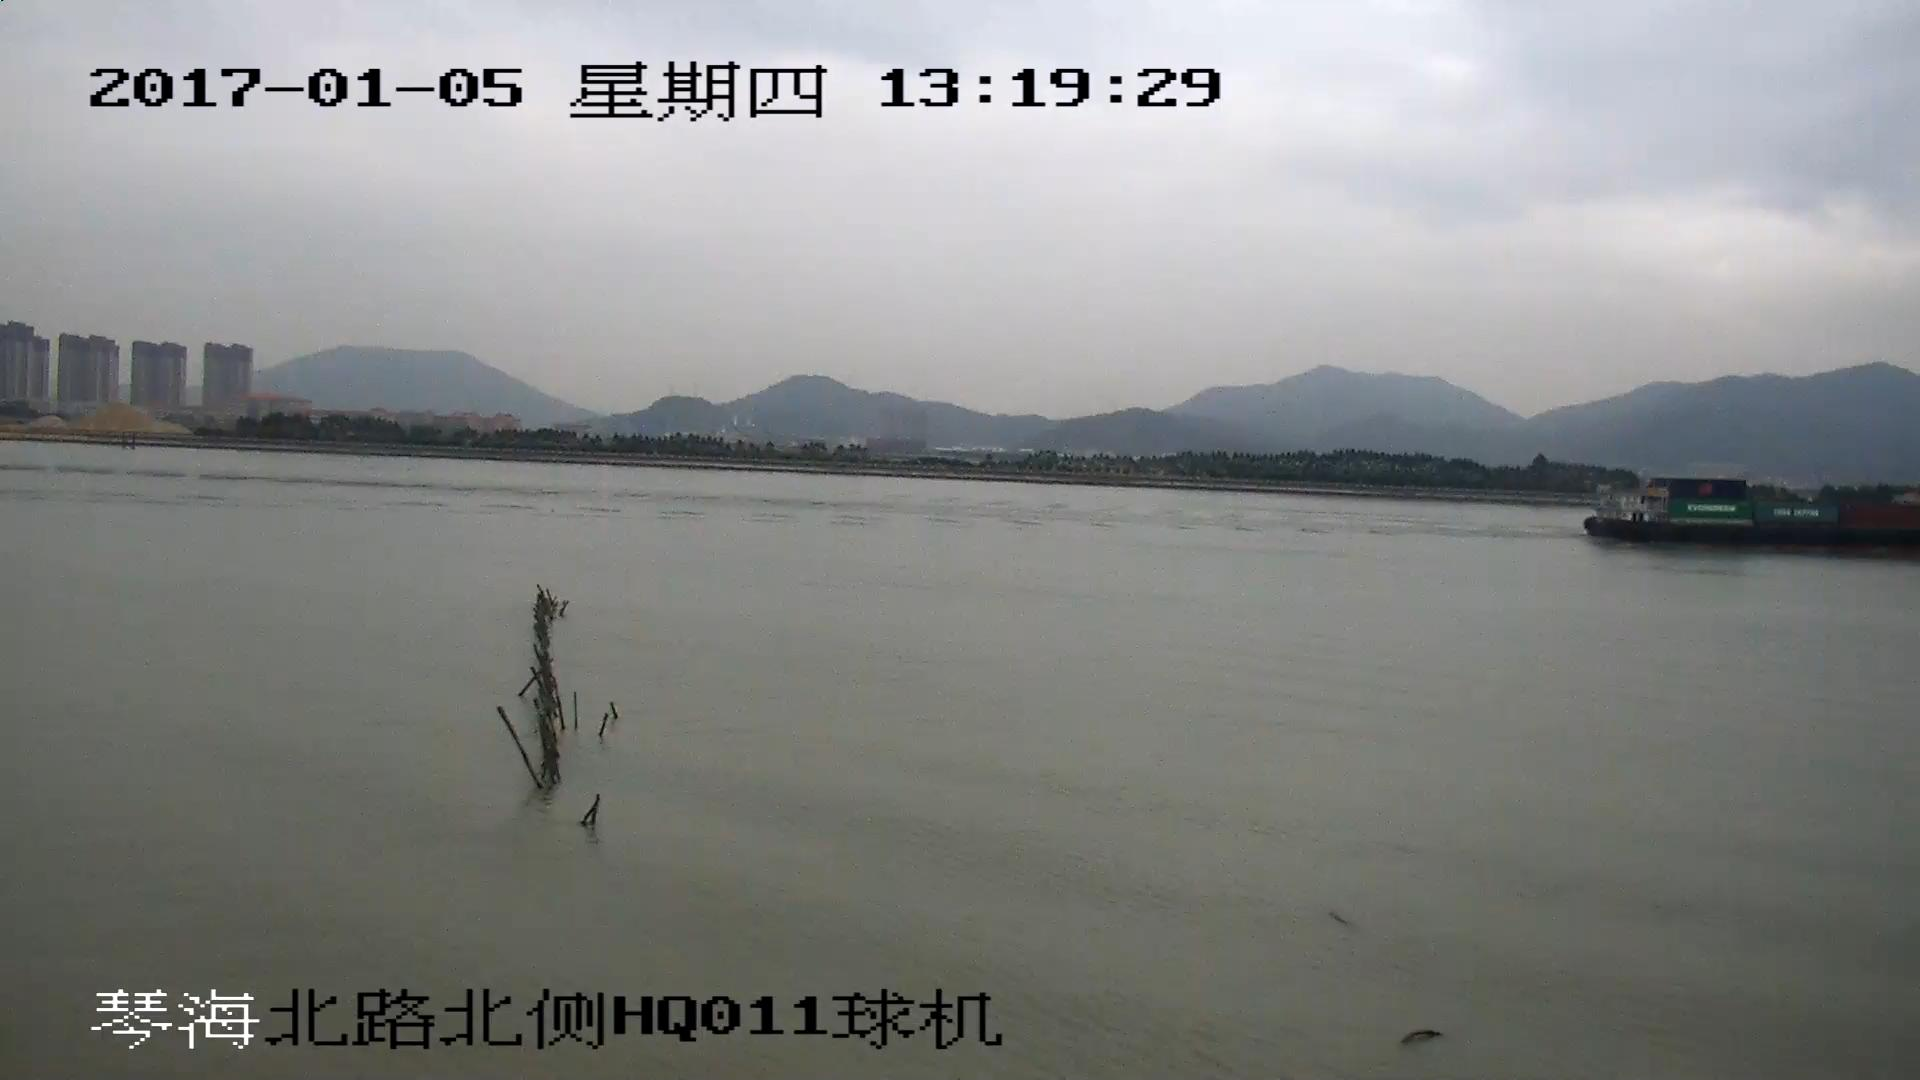container ship: (1590, 479, 1920, 552)
